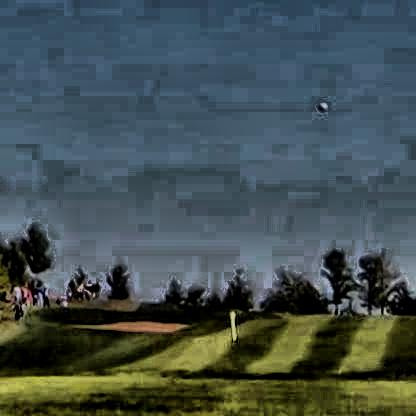golfball: (315, 99, 326, 109)
